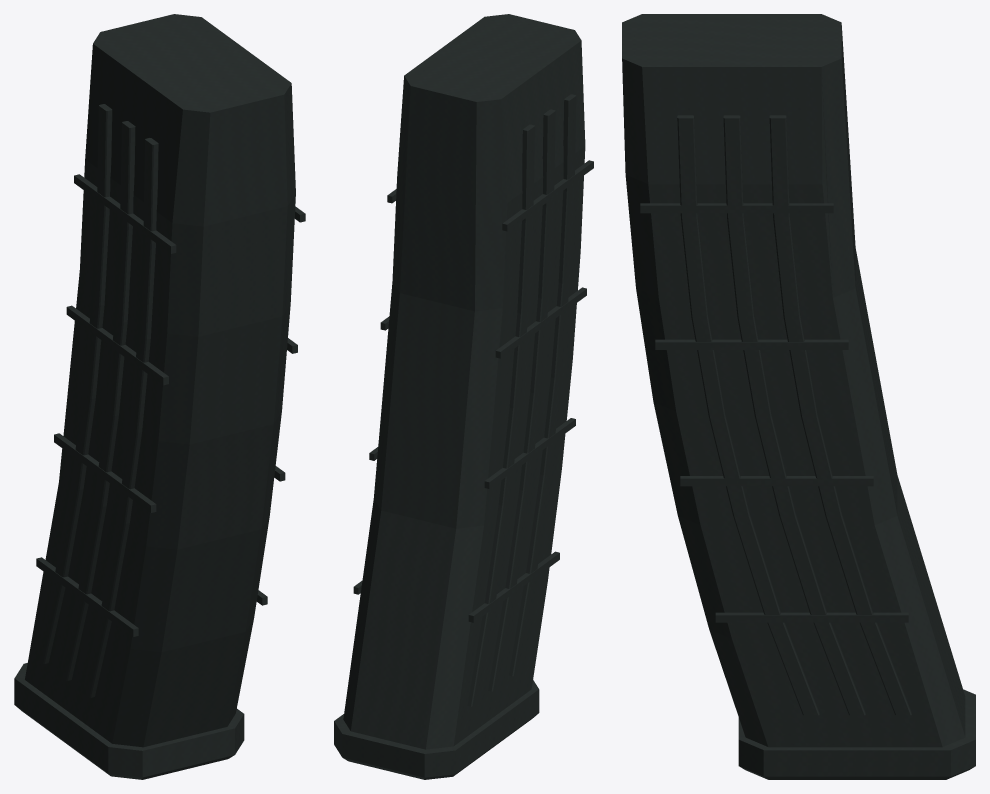
The model's file is val_30.glb.
3 views of the same model, side by side, from view 1: azimuth 30°, elevation 25°; view 2: azimuth 150°, elevation 25°; view 3: azimuth 270°, elevation 25° (orthographic). The views are drawn at different scales.
Parts seen in each view (by area): view 1: val_30_individual_shell, val_30_individual_shell.001; view 2: val_30_individual_shell.001, val_30_individual_shell; view 3: val_30_individual_shell, val_30_individual_shell.001.
Part boxes in pixels (box(x1,y1,x2,y2)): val_30_individual_shell: box(14, 14, 305, 779); val_30_individual_shell.001: box(25, 270, 166, 742); val_30_individual_shell.001: box(343, 76, 580, 749); val_30_individual_shell: box(334, 14, 593, 779); val_30_individual_shell: box(622, 14, 975, 779); val_30_individual_shell.001: box(659, 25, 965, 747).
Size of the model in its own units: 0.0748 by 0.374 by 0.1692.
1 material, 1 textured.
